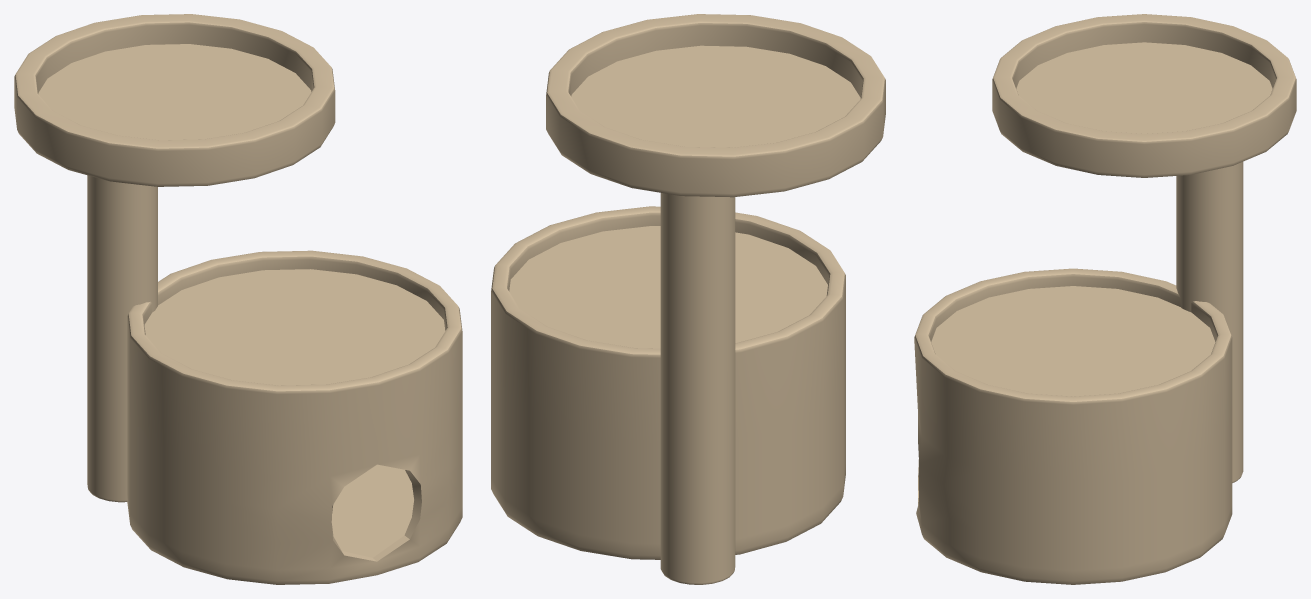
Rendered from SM_CatTower.fbx.
3 views of the same model, side by side, from view 1: azimuth 30°, elevation 25°; view 2: azimuth 150°, elevation 25°; view 3: azimuth 270°, elevation 25° (orthographic). The views are drawn at different scales.
Visible parts, largest first — view 1: SM_CatTower; view 2: SM_CatTower; view 3: SM_CatTower.
Part boxes in pixels (bbox=[...]): SM_CatTower: bbox=[14, 14, 462, 584]; SM_CatTower: bbox=[491, 14, 885, 584]; SM_CatTower: bbox=[914, 14, 1296, 584].
Bounding box in the file's own units: 101 × 113 × 96.53.
1 material, 1 textured.
